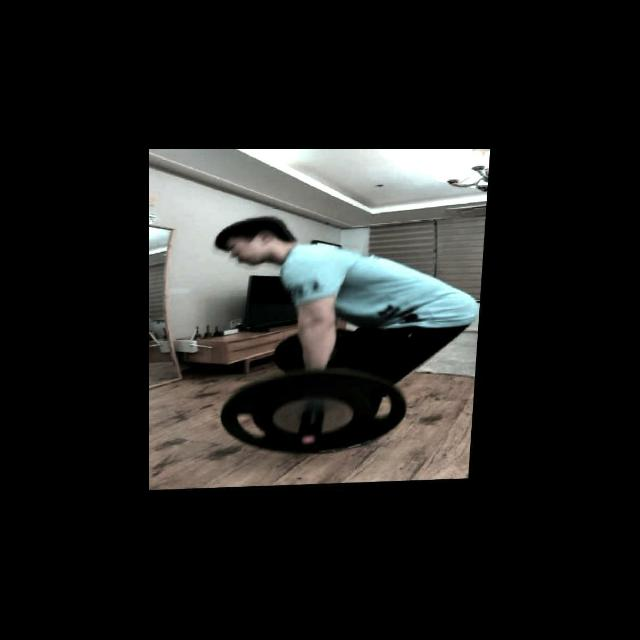barbell: (219, 366, 417, 464)
